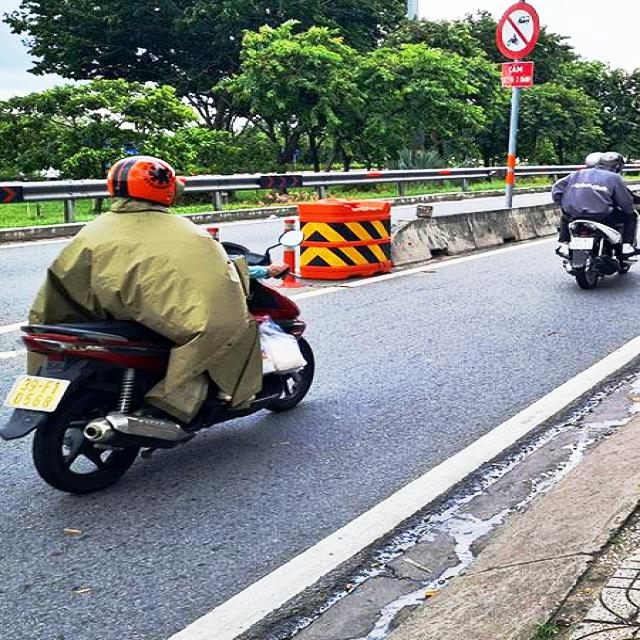license_plate: (6, 377, 70, 413)
